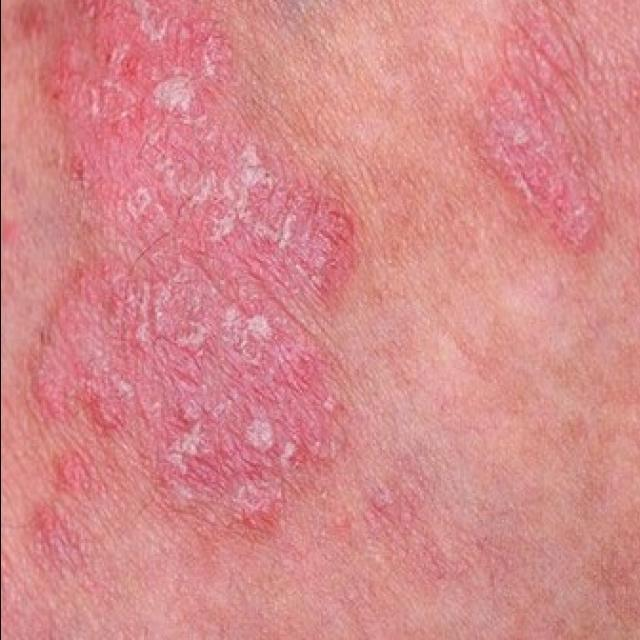Psoriasis: (0, 0, 400, 608), (457, 0, 640, 268)
